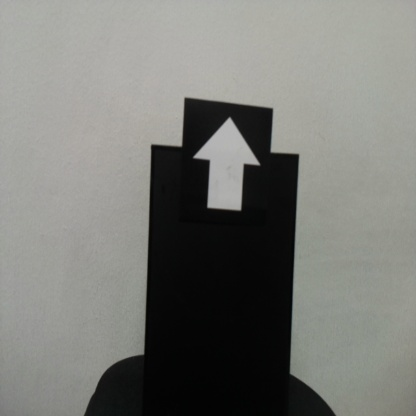id_1: (183, 100, 271, 240)
